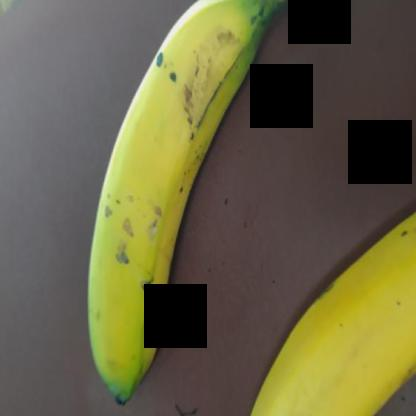freshripe: (217, 187, 415, 415)
ripe: (59, 0, 274, 415)
